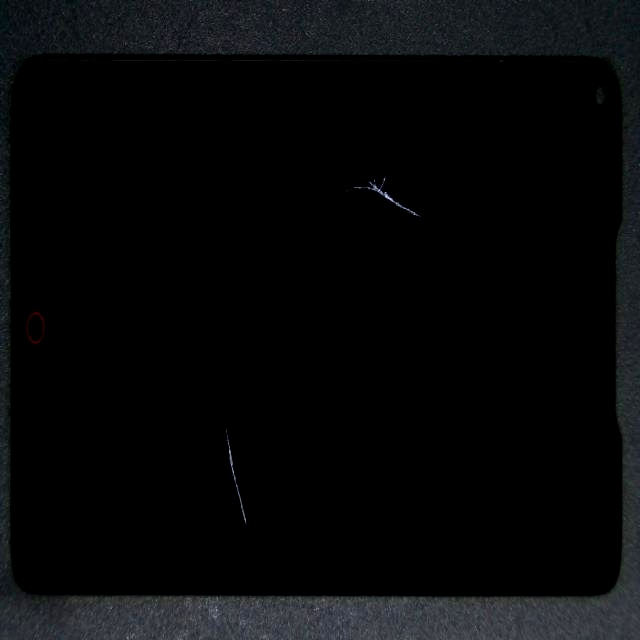scratch: (149, 326, 379, 640), (242, 85, 594, 251)
